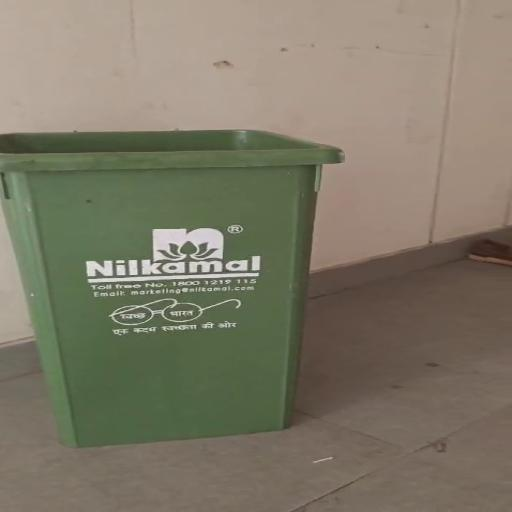Nilkamal-dustbin-detection: (0, 131, 340, 446)
